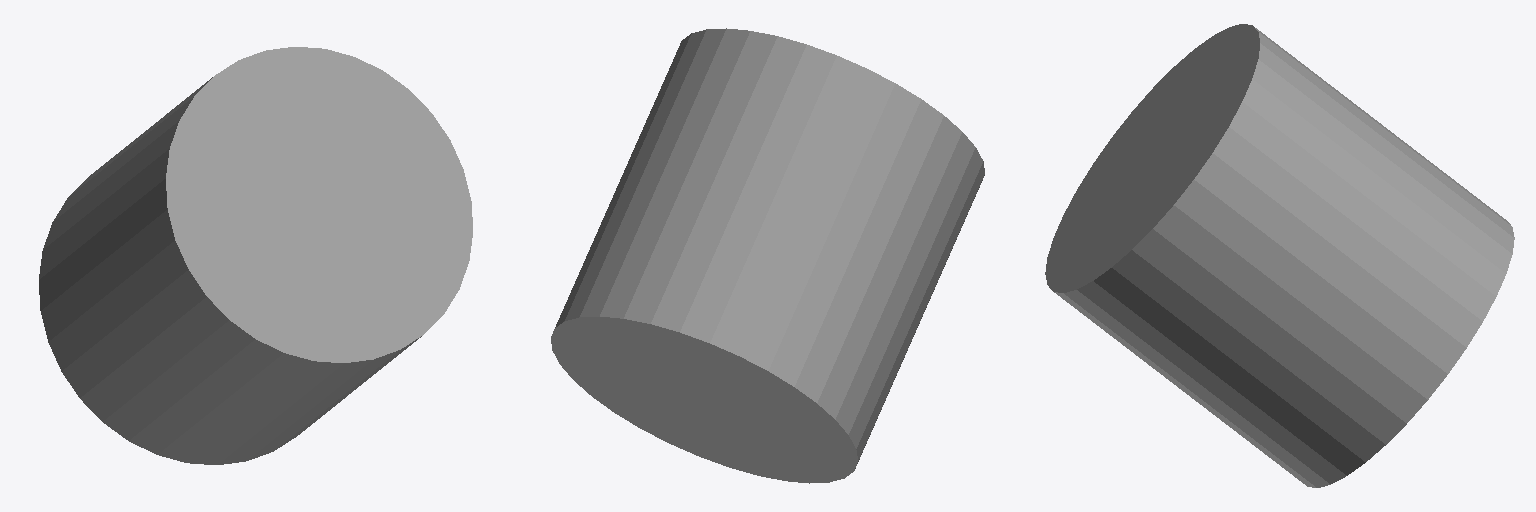
The model's file is cylindre_tex.obj.
3 views of the same model, side by side, from view 1: azimuth 30°, elevation 25°; view 2: azimuth 150°, elevation 25°; view 3: azimuth 270°, elevation 25° (orthographic).
Visible parts, largest first — view 1: Cylinder; view 2: Cylinder; view 3: Cylinder.
Boxes of the visible parts, <box> form: Cylinder: <box>39,47,472,464</box>; Cylinder: <box>551,28,984,483</box>; Cylinder: <box>1045,24,1514,487</box>.
Bounding box in the file's own units: 2 × 2.82 × 2.82.